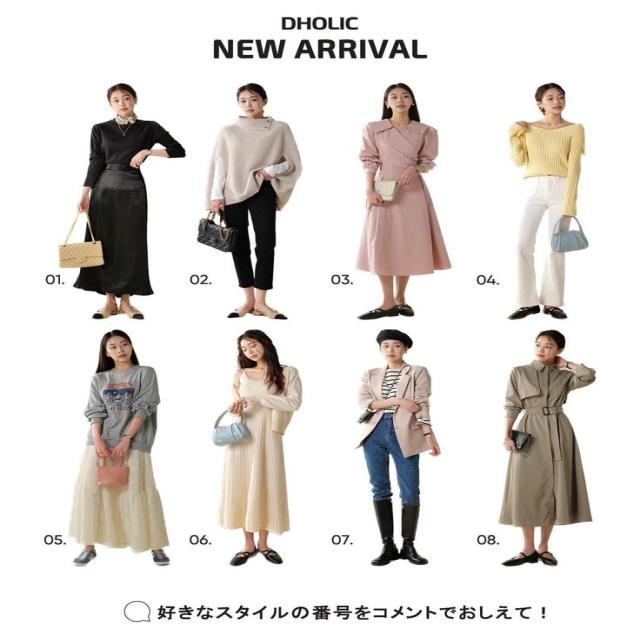person: (72, 83, 186, 320), (68, 329, 170, 566), (498, 329, 597, 566), (206, 82, 303, 319), (355, 82, 451, 320), (215, 329, 302, 566), (355, 328, 440, 566), (506, 82, 586, 320)
